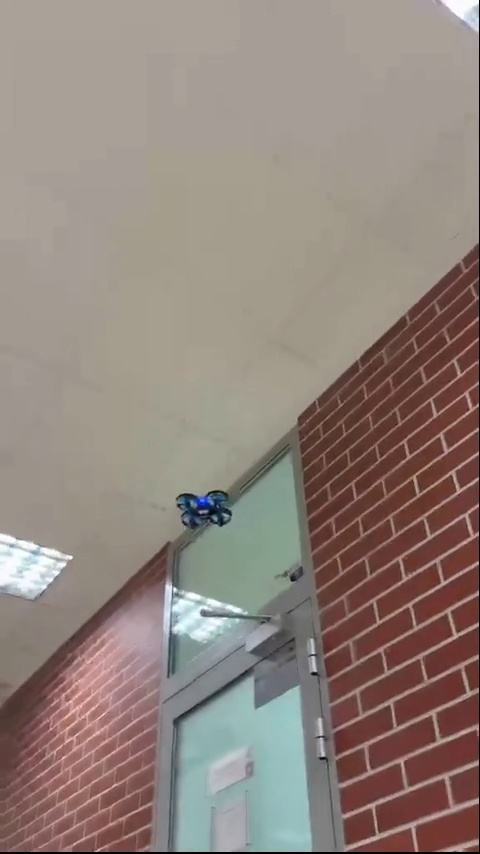drone: (179, 485, 234, 533)
